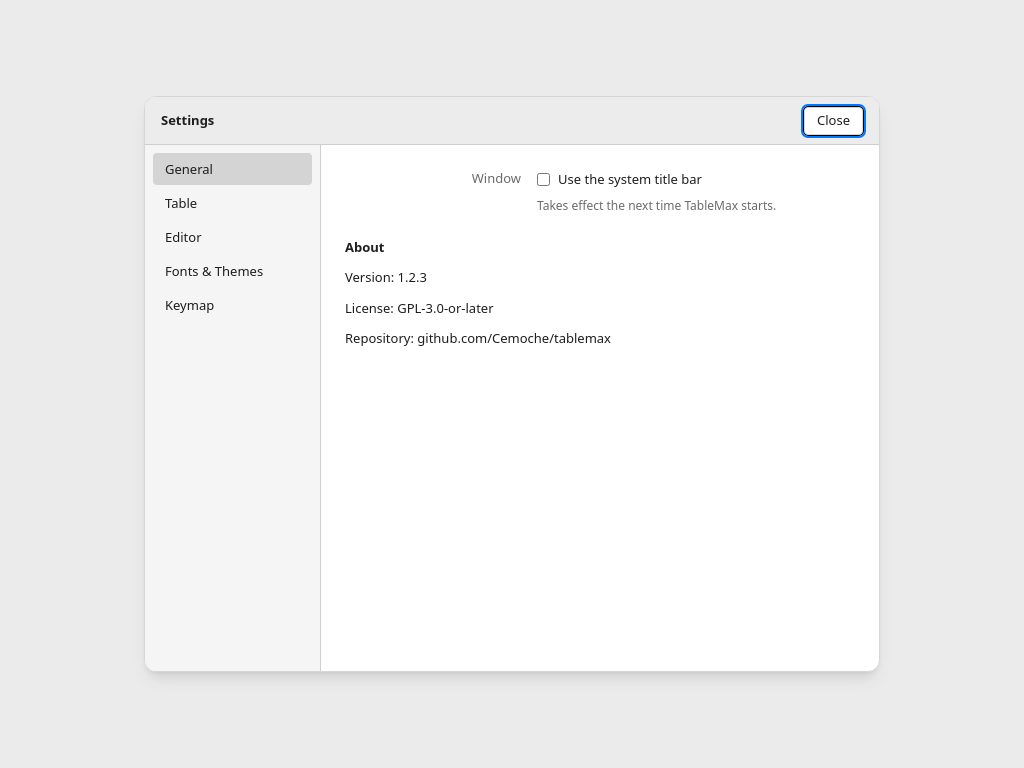
Test: a stored scale off the 5 % grid shows its nearest step
Step 1. Click the tab "Fonts & Themes" → (232,271), box 153,255 -> 312,287
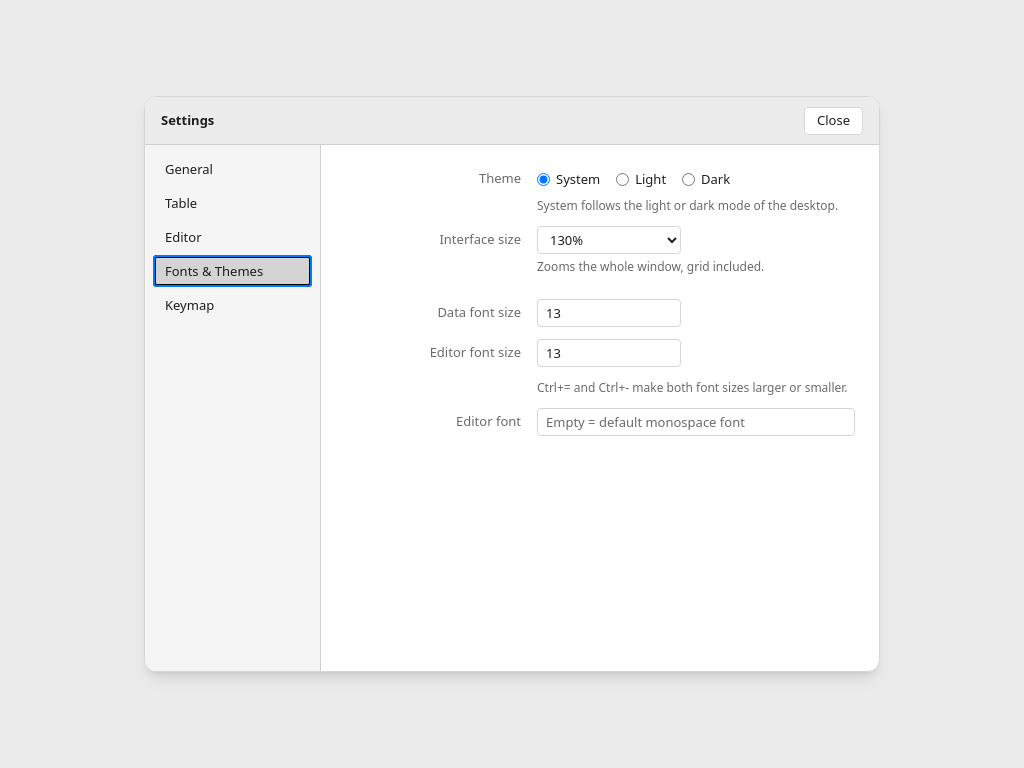
Expected: the dropdown labelled "Interface size" shows "130%", 537,226 -> 681,254
